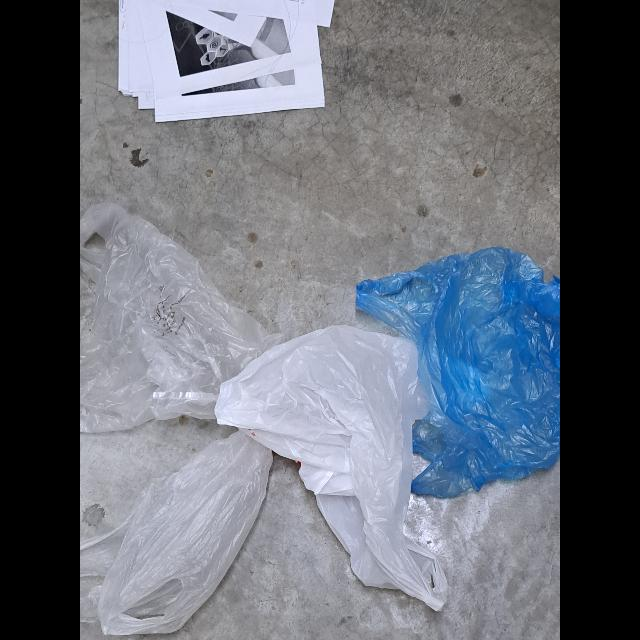papel: (116, 0, 334, 122)
sacola plástica: (84, 196, 560, 632)
